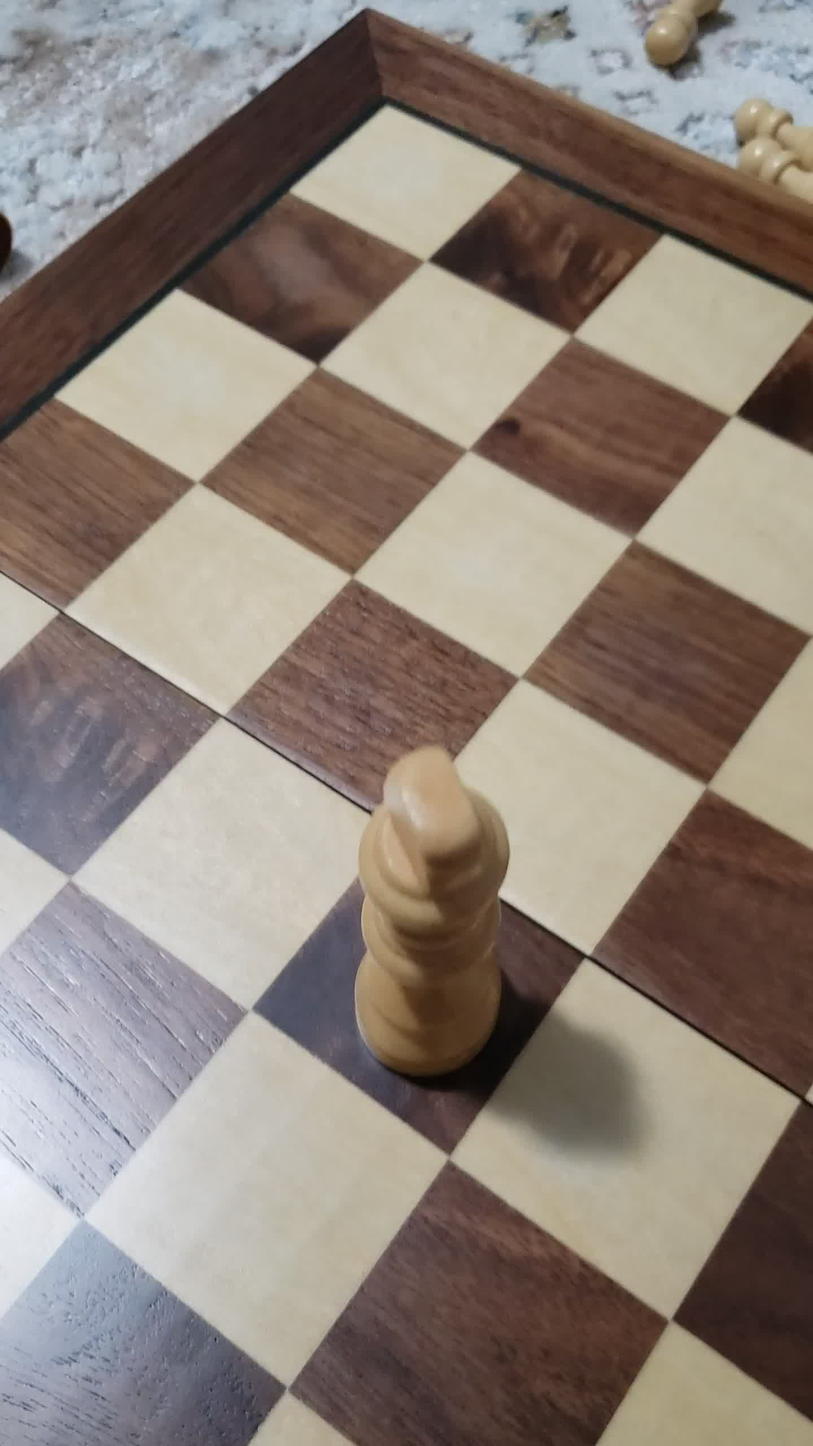white-king: (325, 724, 528, 1105)
